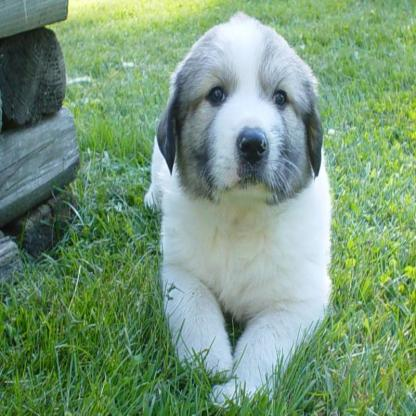Great_Pyrenees: (142, 5, 336, 408)
